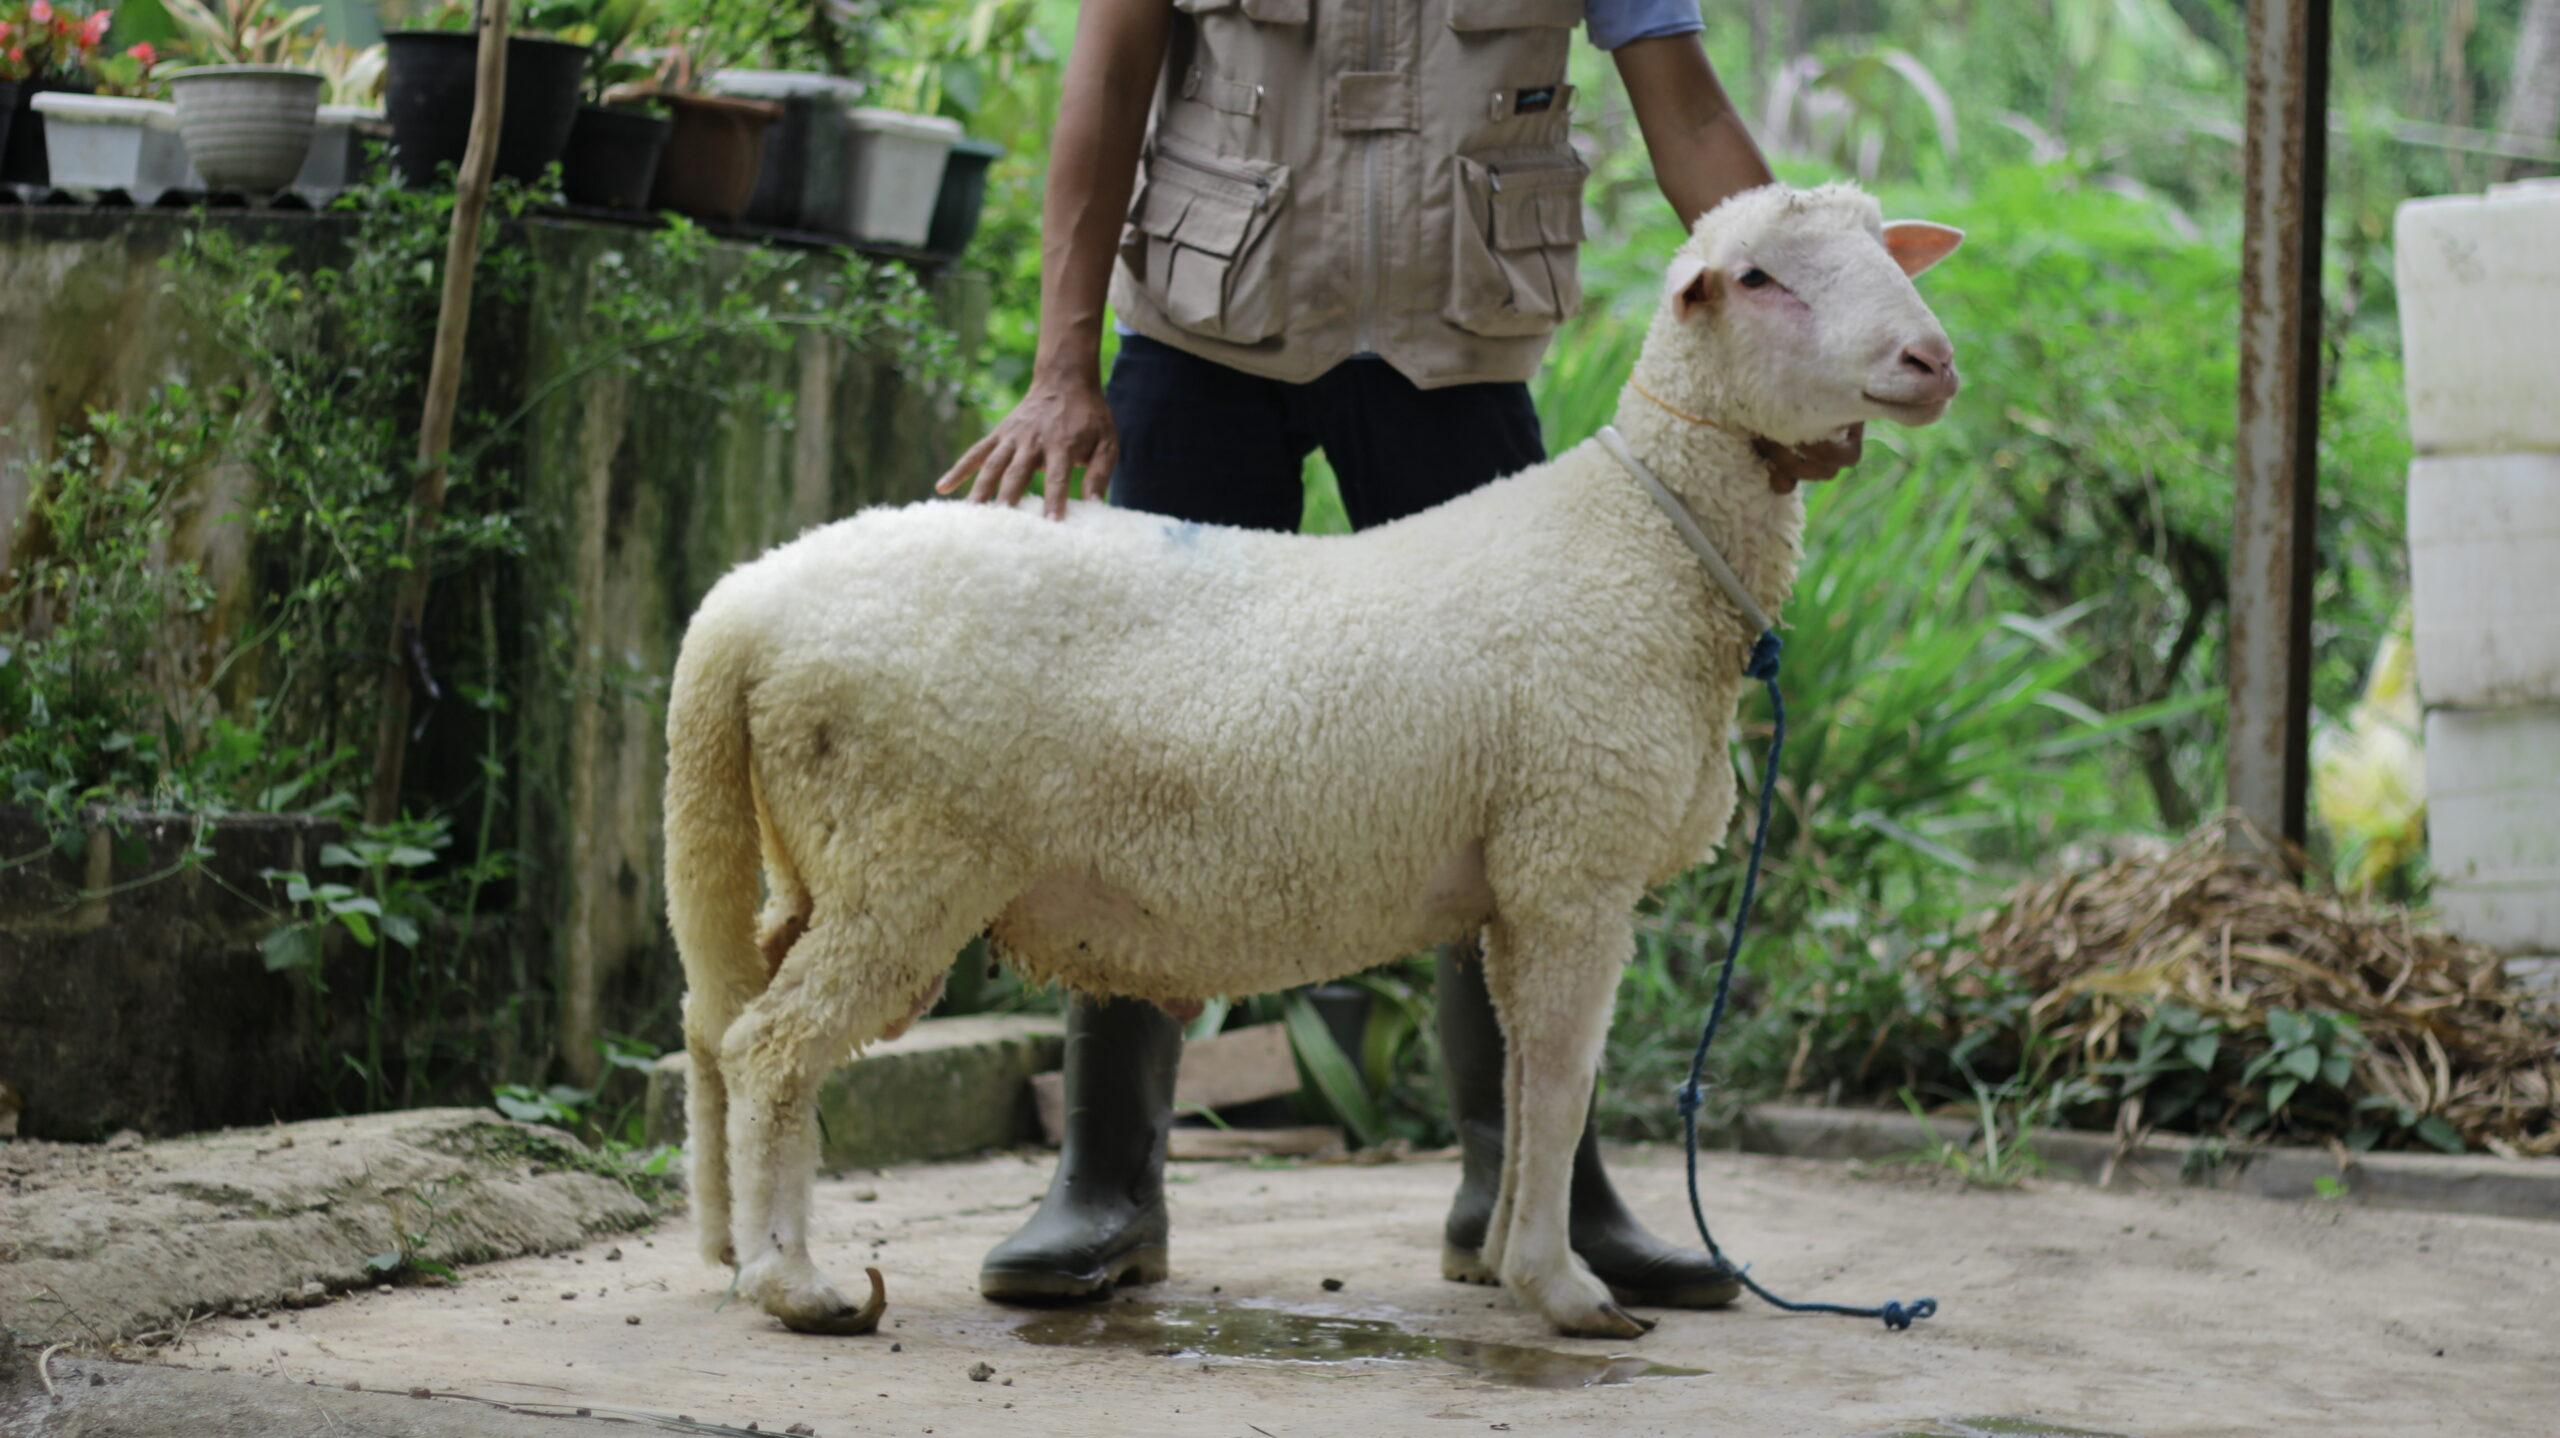Sheep: (1611, 100, 1996, 563)
